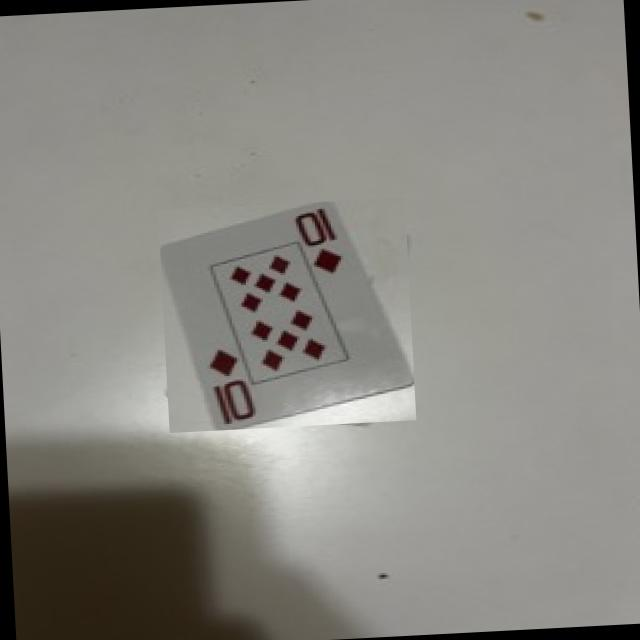10 of diamonds: (161, 202, 414, 429)
